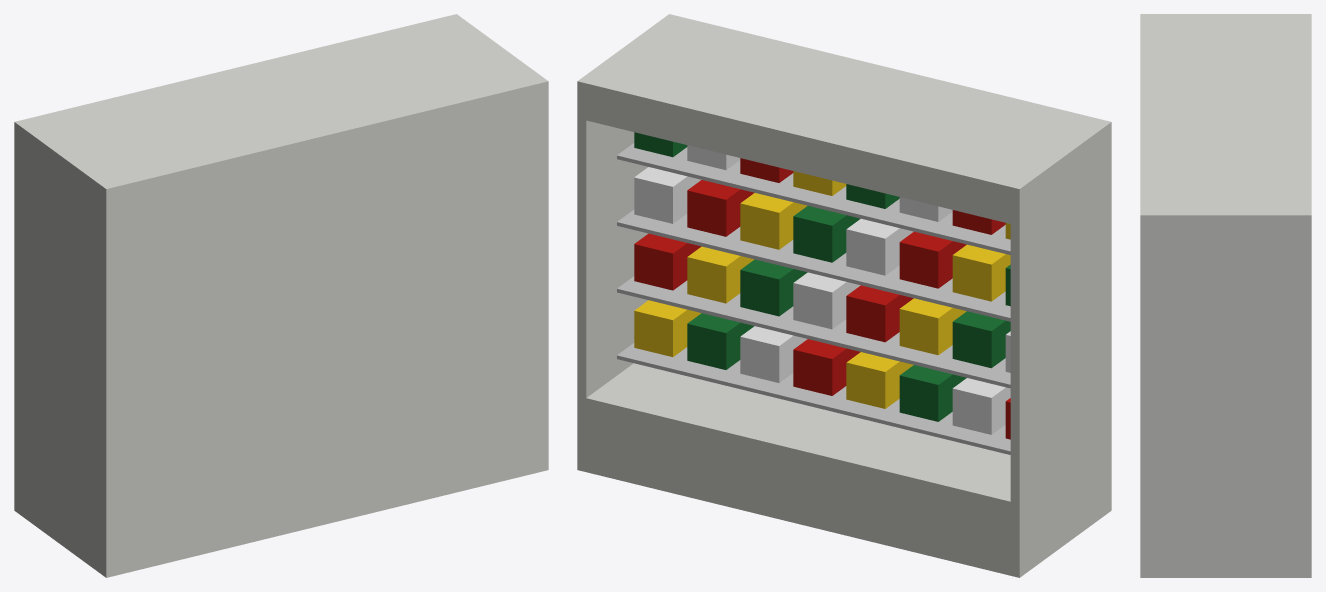
The model's file is retail.shop.chiller.glb.
3 renders of one model, left to right at view 1: azimuth 30°, elevation 25°; view 2: azimuth 150°, elevation 25°; view 3: azimuth 270°, elevation 25°, orthographic. The views are drawn at different scales.
Parts seen in each view (by area): view 1: main__paint_white; view 2: main__paint_white, main__steel_stainless, main__plastic_yellow, main__plastic_red, main__plastic_white, main__plastic_green; view 3: main__paint_white.
Part boxes in pixels (x1,y1,x2,y2): main__paint_white: (14, 14, 548, 577); main__paint_white: (577, 14, 1111, 577); main__steel_stainless: (617, 143, 1010, 454); main__plastic_yellow: (634, 171, 1010, 408); main__plastic_red: (634, 158, 1010, 439); main__plastic_white: (634, 145, 1010, 434); main__plastic_green: (634, 132, 1010, 421); main__paint_white: (1140, 14, 1311, 577).
Bounding box in the file's own units: 2.5 × 2.1 × 0.9.
